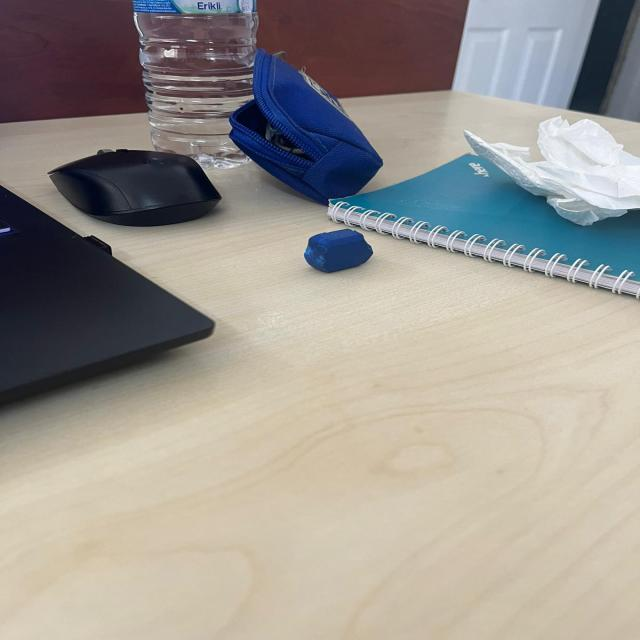eraser: (300, 223, 376, 272)
